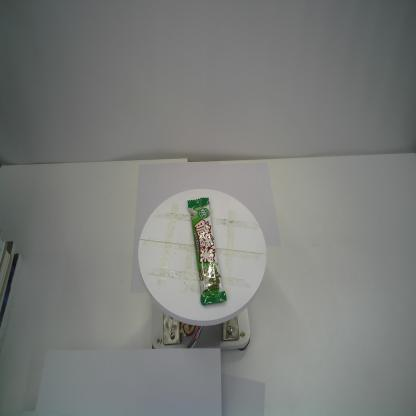Chocolate: (186, 195, 229, 308)
